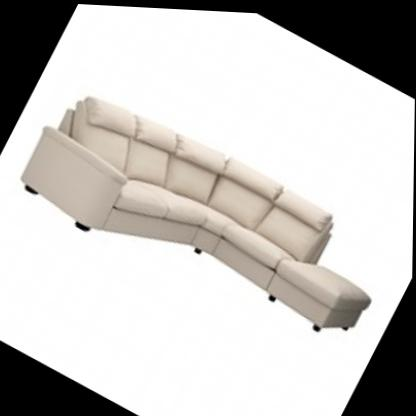Sofa: (0, 48, 414, 383)
